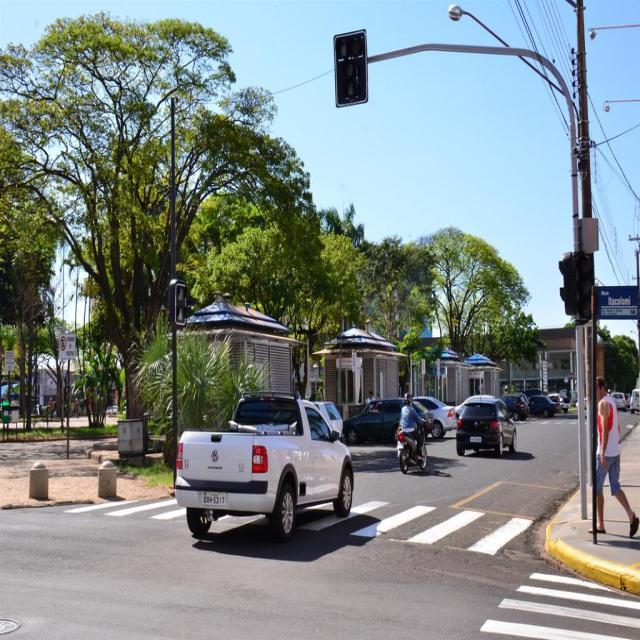traffic light: (559, 253, 594, 319)
